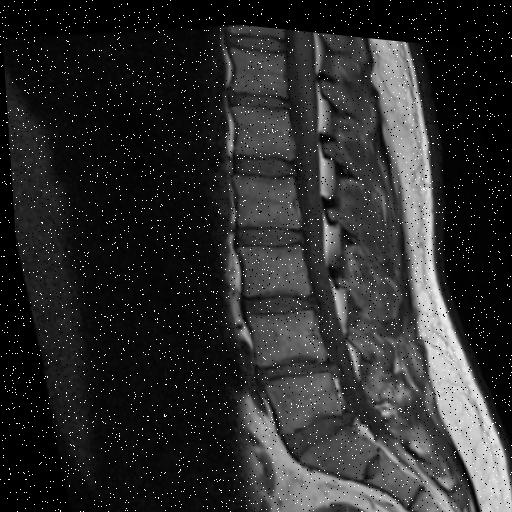L1: (232, 100, 293, 153)
L2: (232, 171, 298, 222)
L3: (237, 239, 307, 292)
L4: (244, 303, 321, 359)
L5: (260, 365, 336, 428)
S1: (293, 419, 371, 473)
